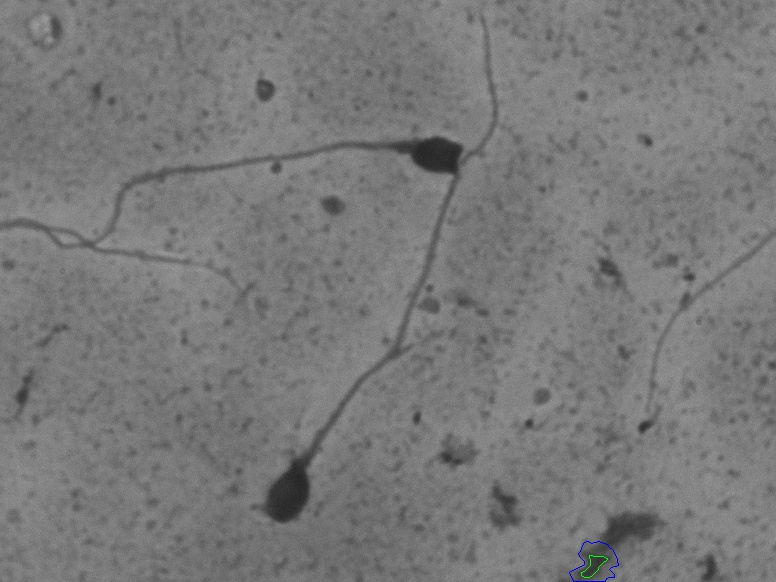Abnormal: (18, 94, 465, 231)
Normal: (259, 14, 527, 533)
